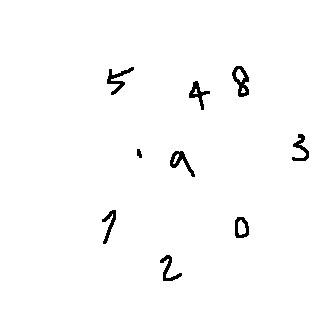.: (132, 145, 149, 166)
0: (232, 207, 256, 250)
1: (99, 207, 120, 253)
2: (150, 248, 190, 290)
3: (283, 122, 320, 177)
4: (182, 70, 217, 118)
5: (97, 59, 142, 98)
8: (227, 56, 260, 108)
9: (165, 137, 202, 181)
